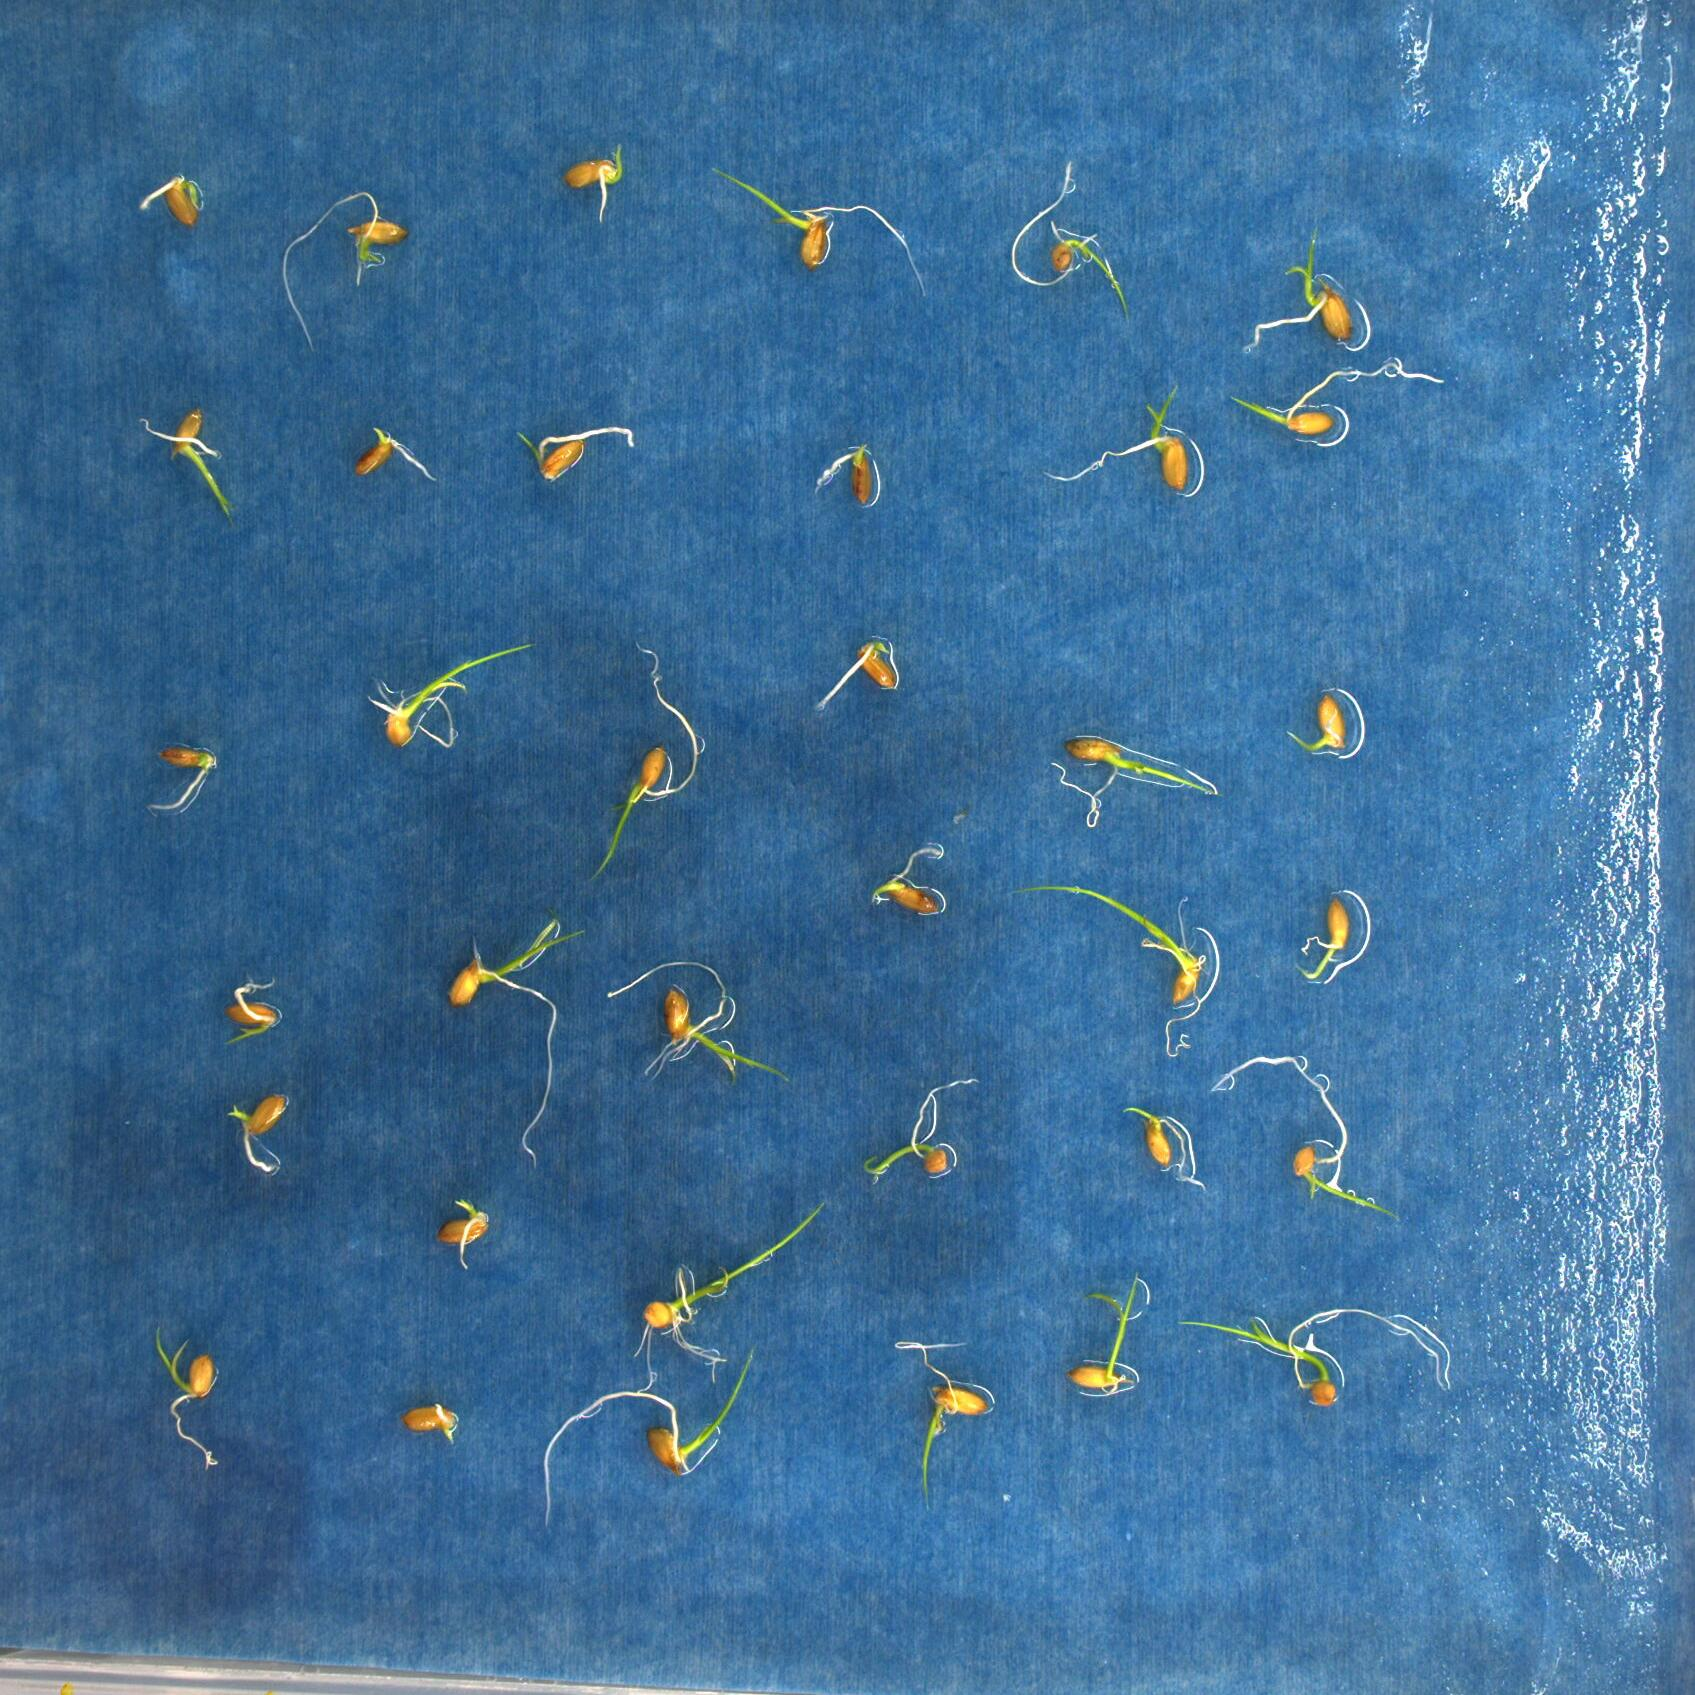not sprout: (861, 832, 955, 925), (813, 633, 920, 705), (346, 408, 435, 492), (799, 435, 893, 514), (141, 737, 231, 816), (133, 163, 217, 241), (227, 1087, 296, 1180), (397, 1392, 464, 1447)
sprout: (522, 1346, 771, 1532), (1004, 872, 1225, 1066), (629, 1194, 840, 1394), (438, 914, 584, 1167), (1175, 1291, 1458, 1417), (577, 632, 711, 886), (1215, 1048, 1399, 1220), (712, 157, 924, 300), (605, 951, 804, 1097), (264, 183, 421, 349), (1026, 360, 1206, 501), (1003, 152, 1139, 331), (1226, 352, 1450, 458), (371, 630, 539, 764), (1051, 722, 1237, 837), (889, 1327, 998, 1503), (1237, 217, 1369, 352), (857, 1069, 987, 1184), (130, 396, 247, 508), (146, 1326, 233, 1471), (1069, 1267, 1158, 1406), (1298, 886, 1397, 997), (1107, 1093, 1211, 1197), (504, 414, 653, 483), (549, 133, 633, 225), (1277, 680, 1354, 764), (427, 1192, 504, 1267), (206, 973, 286, 1042)
